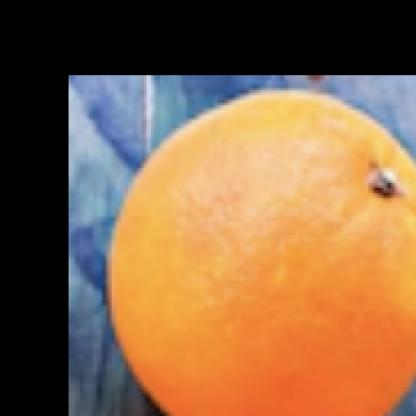fresh: (106, 91, 416, 416)
